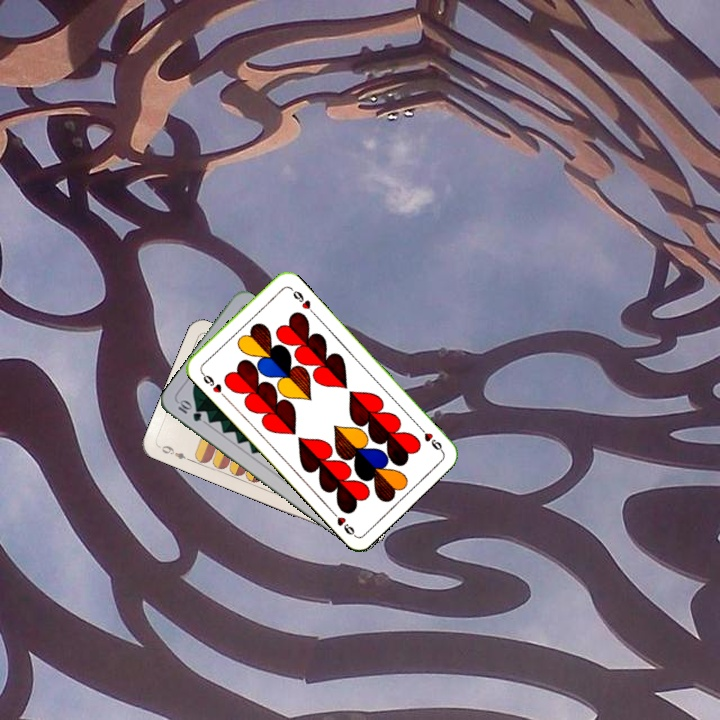E9: (155, 441, 194, 464)
G10: (174, 396, 204, 424)
H9: (414, 422, 446, 455), (197, 367, 228, 400)
